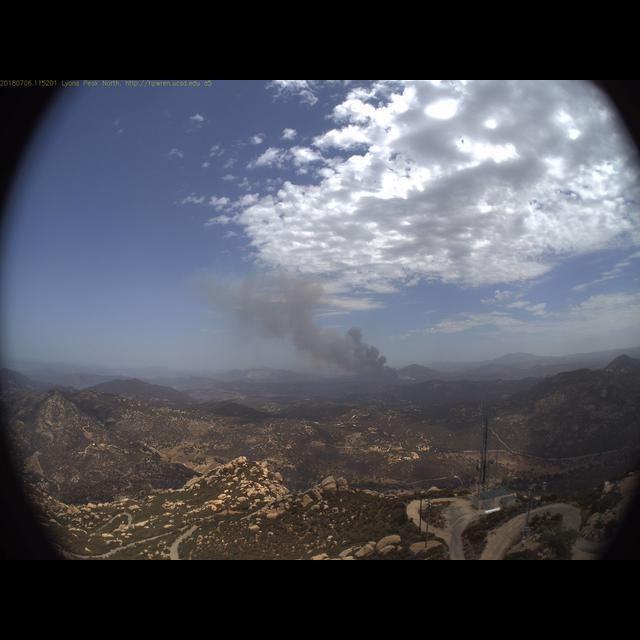Smoke: (199, 258, 421, 393)
